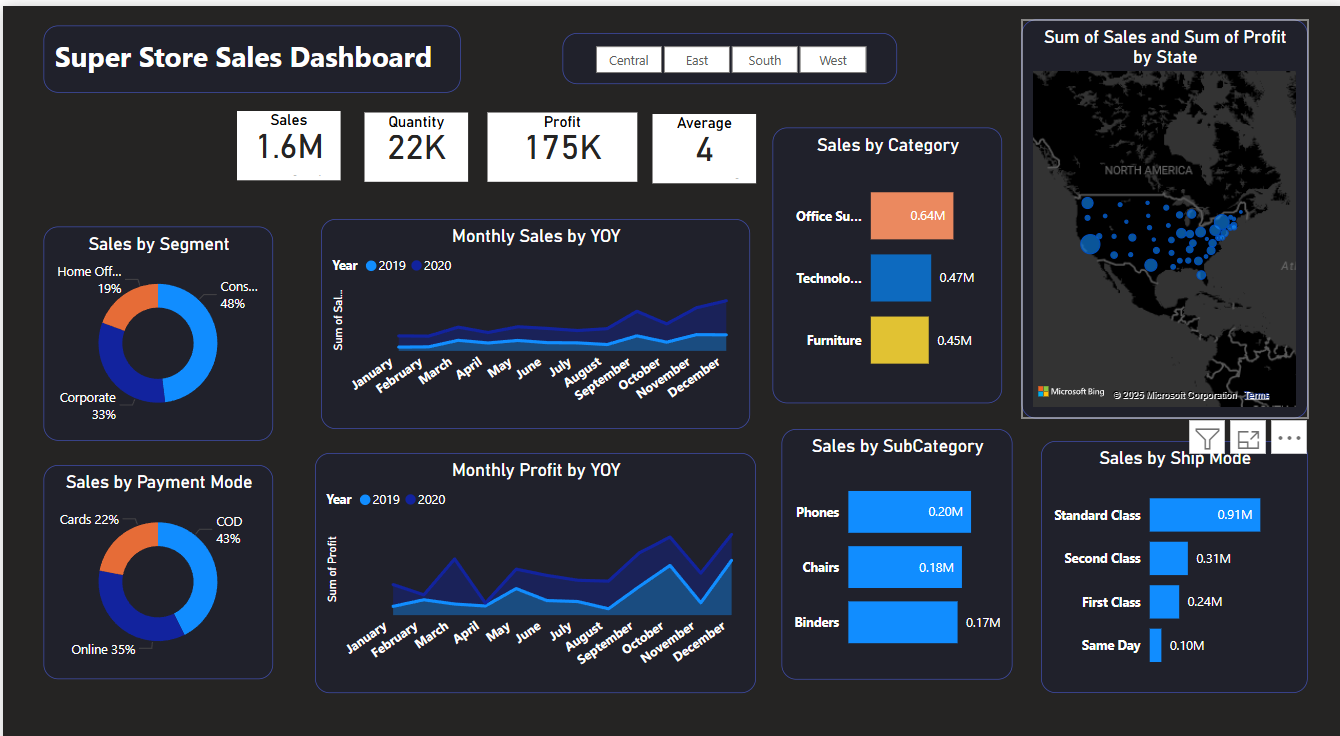

What the dashboard file says about the page in this screenshot:
{"tool":"powerbi","page":{"name":"Page 1","canvas":[1280,720],"ordinal":0},"visuals":[{"type":"clusteredBarChart","title":" Sales by Category","fields":{"Category":["SuperStore_Sales_Dataset.Category"],"Y":["Sum(SuperStore_Sales_Dataset.Sales)"]},"box":[732.5,116.2,218.8,262.5],"z":0},{"type":"clusteredBarChart","title":" Sales by  SubCategory","fields":{"Y":["Sum(SuperStore_Sales_Dataset.Sales)"],"Category":["SuperStore_Sales_Dataset.Sub-Category"]},"box":[741.4,402.9,220,238.6],"z":1000},{"type":"clusteredBarChart","title":" Sales by Ship Mode","fields":{"Y":["Sum(SuperStore_Sales_Dataset.Sales)"],"Category":["SuperStore_Sales_Dataset.Ship Mode"]},"box":[988.6,414.3,254.3,240],"z":2000},{"type":"stackedAreaChart","title":"Monthly Sales by YOY","fields":{"Category":["SuperStore_Sales_Dataset.Order Date.Variation.Date Hierarchy.Month","SuperStore_Sales_Dataset.Order Date.Variation.Date Hierarchy.Day"],"Y":["Sum(SuperStore_Sales_Dataset.Sales)"],"Series":["SuperStore_Sales_Dataset.Order Date.Variation.Date Hierarchy.Year"]},"box":[302.5,202.5,408.8,200],"z":3000},{"type":"stackedAreaChart","title":"Monthly Profit  by YOY","fields":{"Category":["SuperStore_Sales_Dataset.Order Date.Variation.Date Hierarchy.Month","SuperStore_Sales_Dataset.Order Date.Variation.Date Hierarchy.Day"],"Series":["SuperStore_Sales_Dataset.Order Date.Variation.Date Hierarchy.Year"],"Y":["Sum(SuperStore_Sales_Dataset.Profit)"]},"box":[297.5,425,420,228.8],"z":4000},{"type":"map","fields":{"Category":["SuperStore_Sales_Dataset.State"],"Size":["Sum(SuperStore_Sales_Dataset.Sales)"]},"box":[970,12.5,272.5,380],"z":5000},{"type":"donutChart","title":" Sales by Segment","fields":{"Category":["SuperStore_Sales_Dataset.Segment"],"Y":["Sum(SuperStore_Sales_Dataset.Sales)"]},"box":[38.8,210,218.8,203.8],"z":6000},{"type":"donutChart","title":" Sales by Payment Mode","fields":{"Y":["Sum(SuperStore_Sales_Dataset.Sales)"],"Category":["SuperStore_Sales_Dataset.Payment Mode"]},"box":[38.8,437.5,218.8,203.8],"z":7000},{"type":"slicer","fields":{"Values":["SuperStore_Sales_Dataset.Region"]},"box":[532.5,26.2,318.8,48.8],"z":8000},{"type":"textbox","box":[38.8,18.8,397.5,63.8],"z":9000},{"type":"card","title":"Sales","fields":{"Values":["Sum(SuperStore_Sales_Dataset.Sales)"]},"box":[222.5,100,98.8,66.2],"z":10000},{"type":"card","title":"Profit","fields":{"Values":["Sum(SuperStore_Sales_Dataset.Profit)"]},"box":[461.2,101.2,142.5,66.2],"z":11000},{"type":"card","title":"Quantity","fields":{"Values":["Sum(SuperStore_Sales_Dataset.Quantity)"]},"box":[345,101.2,98.8,66.2],"z":12000},{"type":"card","title":"Average","fields":{"Values":["Avg(SuperStore_Sales_Dataset.AveDelivery)"]},"box":[618.8,102.5,98.8,66.2],"z":13000}]}

Visuals, with their boxes in screenshot pixels (x1, y1, x2, y2), scaled from the page's 1280x720 canvas onto the 1340x736 screenshot:
" Sales by Category" clusteredBarChart: box(767, 119, 996, 387)
" Sales by  SubCategory" clusteredBarChart: box(776, 412, 1006, 656)
" Sales by Ship Mode" clusteredBarChart: box(1035, 424, 1301, 669)
"Monthly Sales by YOY" stackedAreaChart: box(317, 207, 745, 411)
"Monthly Profit  by YOY" stackedAreaChart: box(311, 434, 751, 668)
map - SuperStore_Sales_Dataset.State x Sum(SuperStore_Sales_Dataset.Sales): box(1015, 13, 1301, 401)
" Sales by Segment" donutChart: box(41, 215, 270, 423)
" Sales by Payment Mode" donutChart: box(41, 447, 270, 656)
slicer - SuperStore_Sales_Dataset.Region: box(557, 27, 891, 77)
textbox: box(41, 19, 457, 84)
"Sales" card: box(233, 102, 336, 170)
"Profit" card: box(483, 103, 632, 171)
"Quantity" card: box(361, 103, 465, 171)
"Average" card: box(648, 105, 751, 172)
